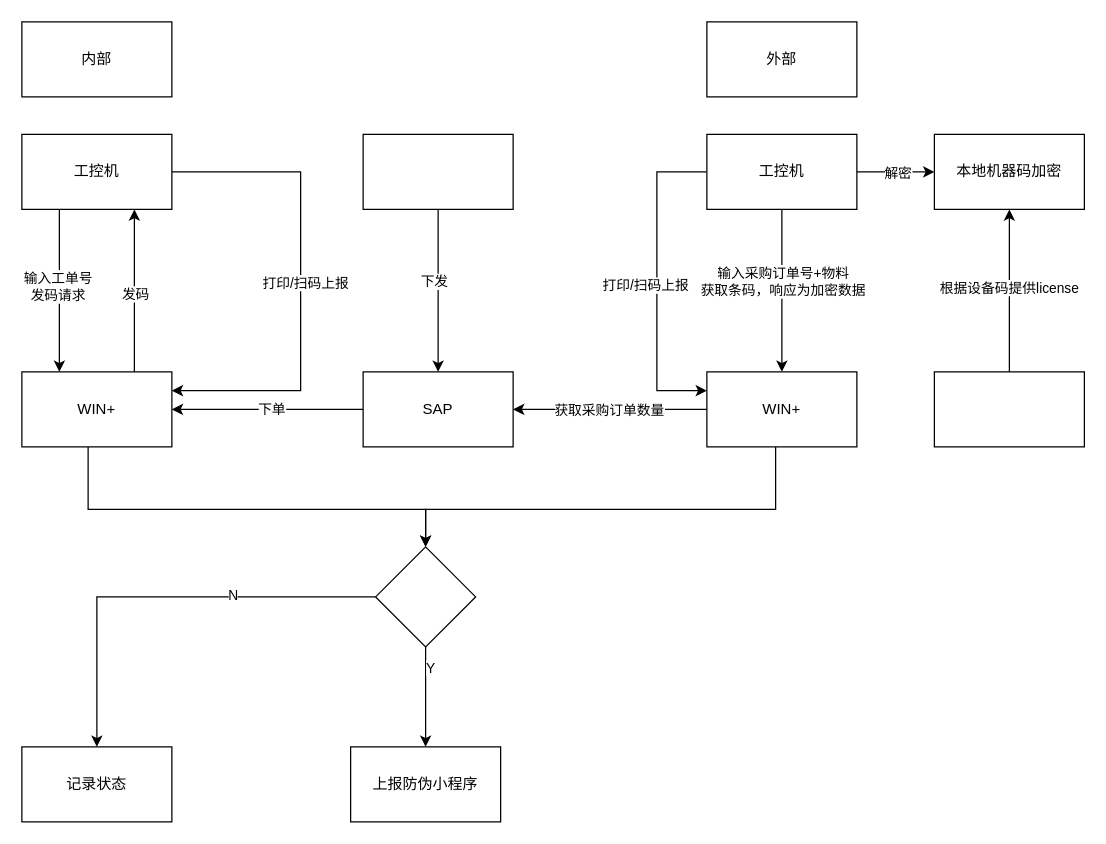
Some shapes in this 1106 by 844 pixel diagram are drawn without their labels. The centre of each missing label's shape, as x and y in pixels:
"SRM" goes at (x=437, y=171).
"加密服务" goes at (x=1008, y=409).
"是否是打印上报" goes at (x=425, y=596).
